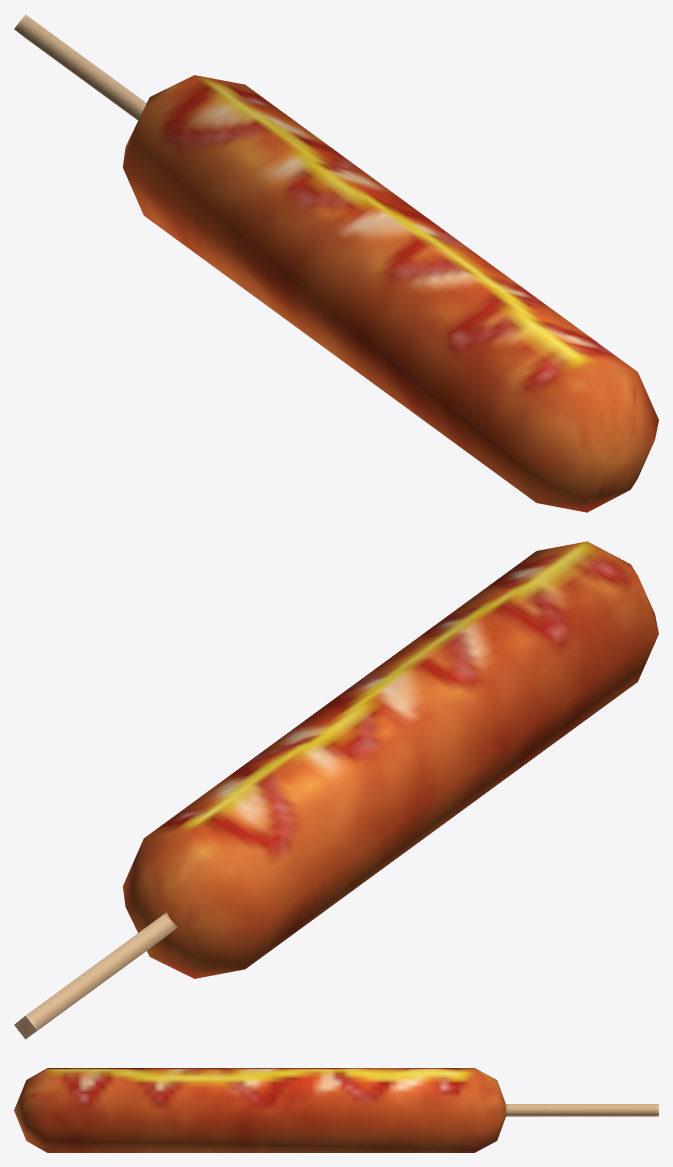
File: jsf_Frankfurt_a04.fbx
3 views of the same model, one above another, from view 1: azimuth 30°, elevation 25°; view 2: azimuth 150°, elevation 25°; view 3: azimuth 270°, elevation 25° (orthographic). The views are drawn at different scales.
Visible parts, largest first — view 1: jsf_Frankfurt_a04; view 2: jsf_Frankfurt_a04; view 3: jsf_Frankfurt_a04.
Part boxes in pixels (x1,y1,x2,y2): jsf_Frankfurt_a04: (14, 14, 658, 512); jsf_Frankfurt_a04: (14, 541, 658, 1039); jsf_Frankfurt_a04: (14, 1068, 658, 1152).
Bounding box in the file's own units: 2.92 × 2.92 × 20.9.
